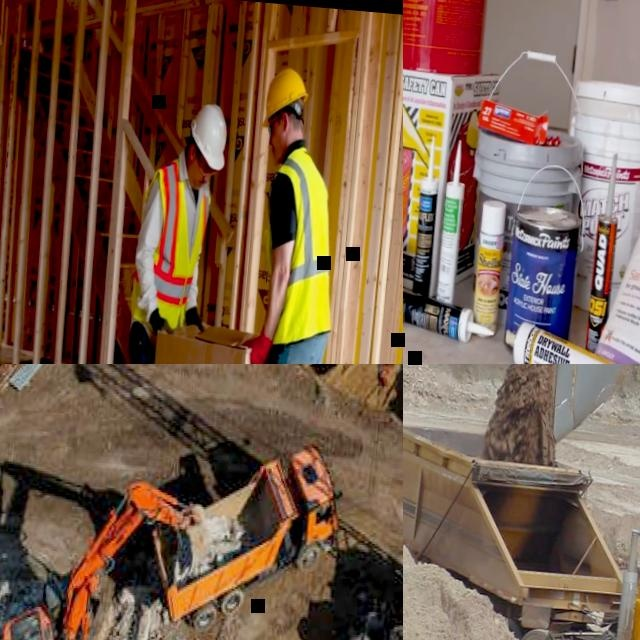Hardhat: (189, 102, 229, 170), (262, 69, 308, 126)
NO-Mask: (269, 140, 284, 162), (191, 169, 203, 189)
Person: (218, 67, 357, 364), (98, 93, 231, 364)
Safety Vest: (257, 146, 347, 346), (125, 155, 213, 342)
machinery: (403, 412, 640, 640), (135, 427, 346, 640), (0, 465, 214, 640), (403, 364, 640, 453)
